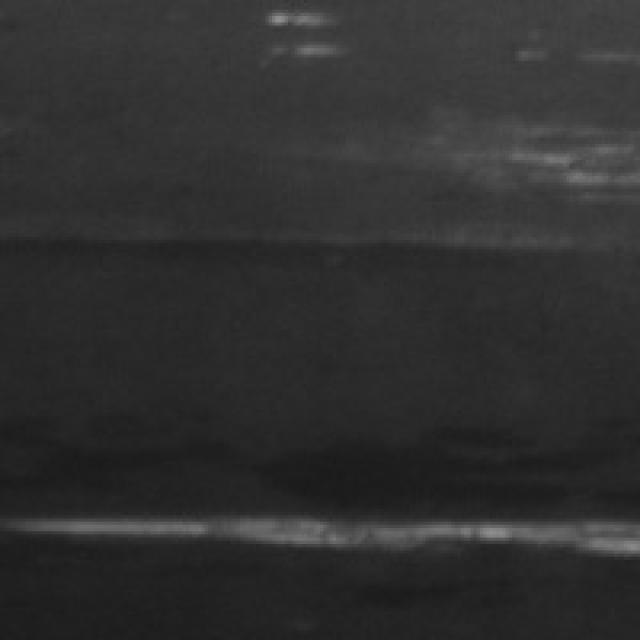scratches: (9, 490, 634, 560)
